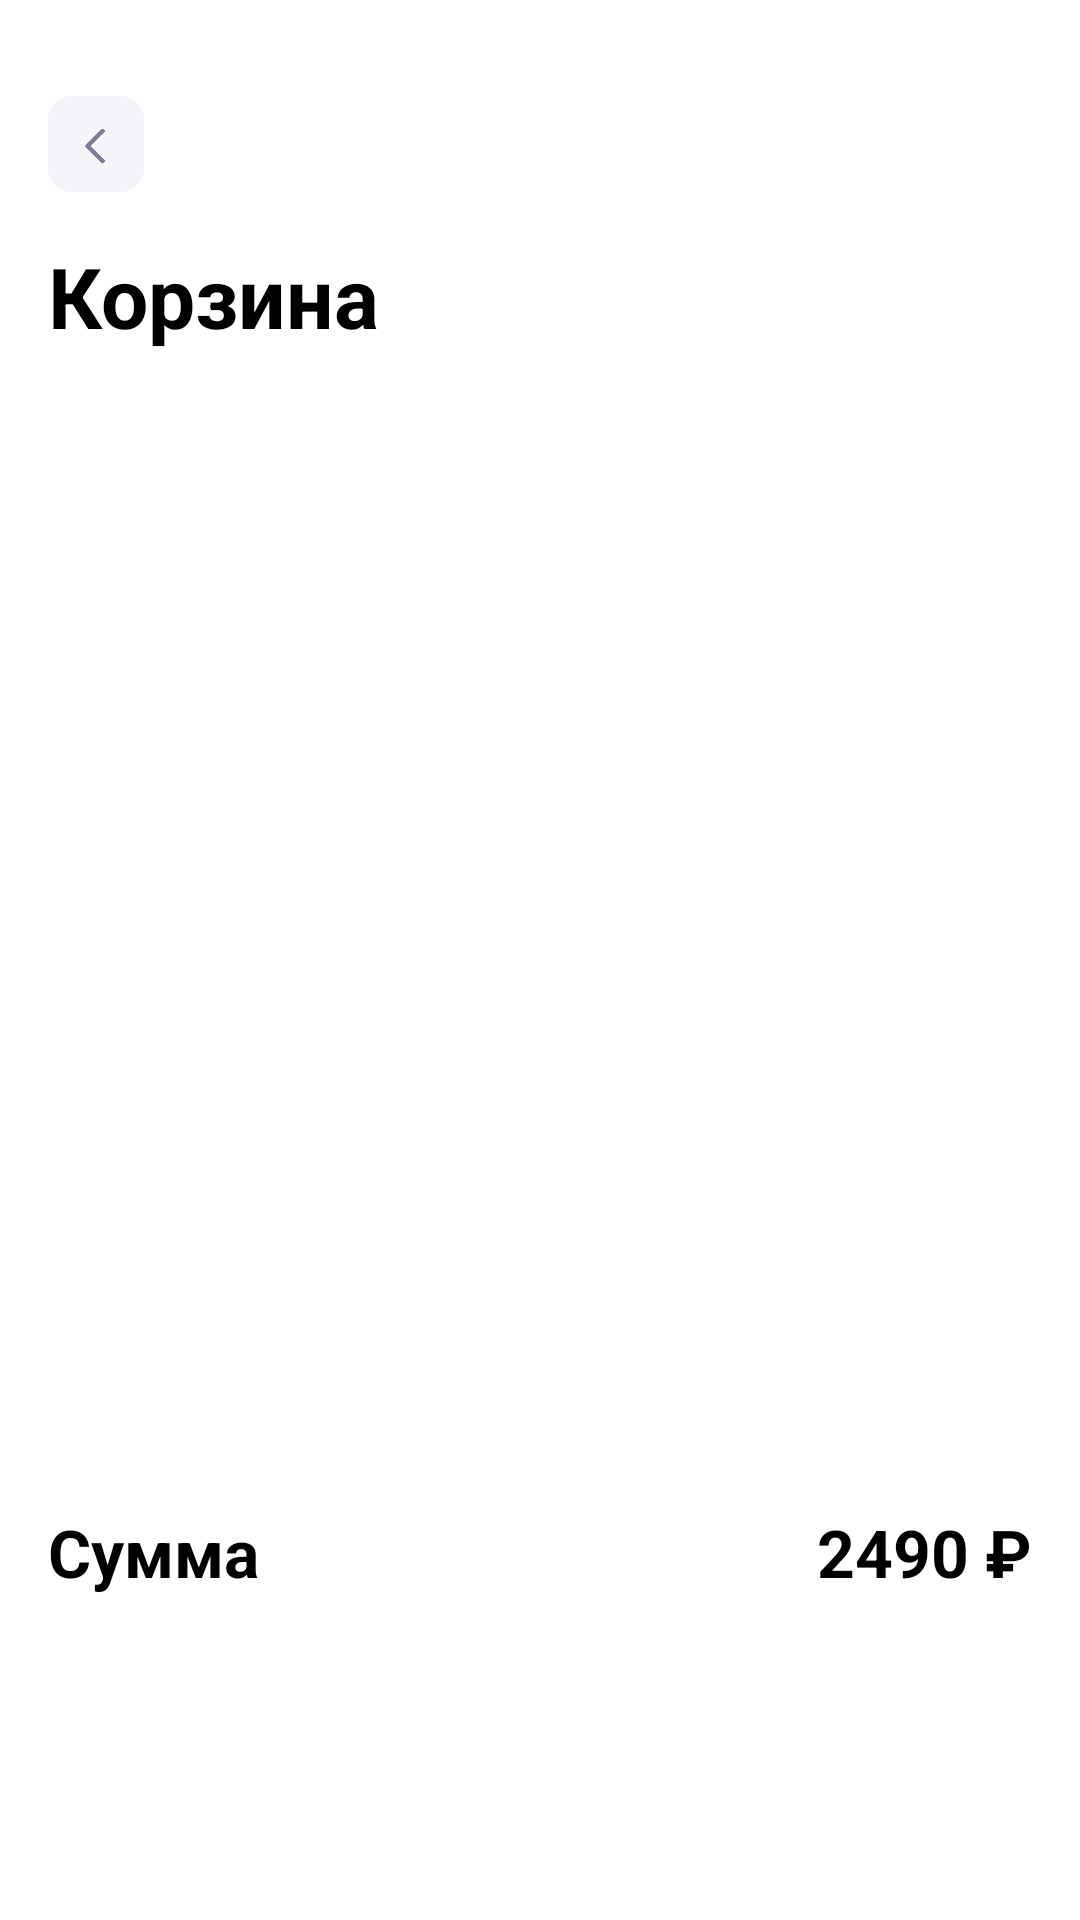

Locate icon controls on the screen. Image size 1080px x 1920px, boxes as Rect(x1, y1, x2, y2).
back: Rect(48, 96, 144, 192)
